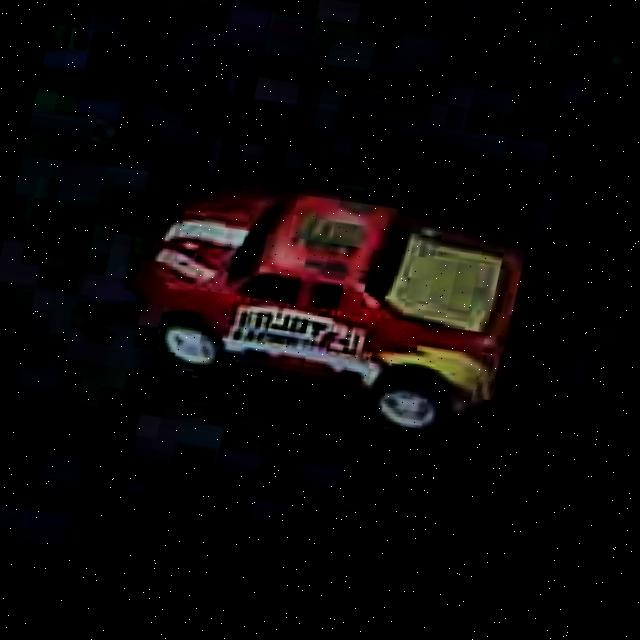car: (102, 139, 544, 473)
